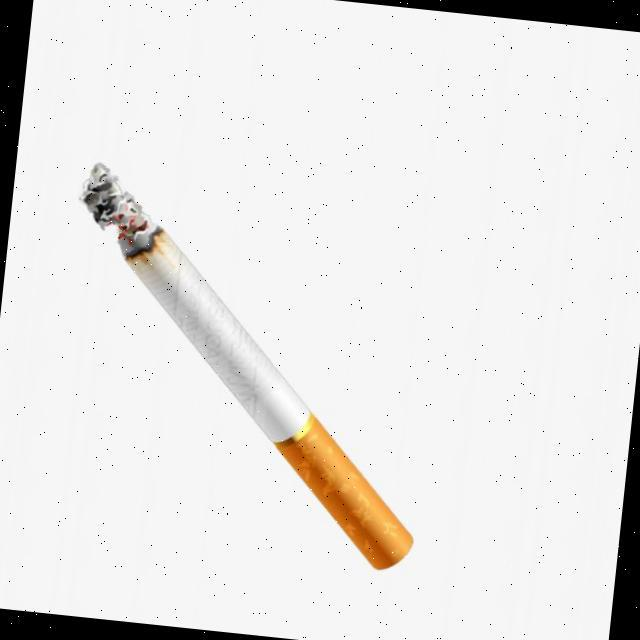cigarette: (34, 151, 460, 589)
